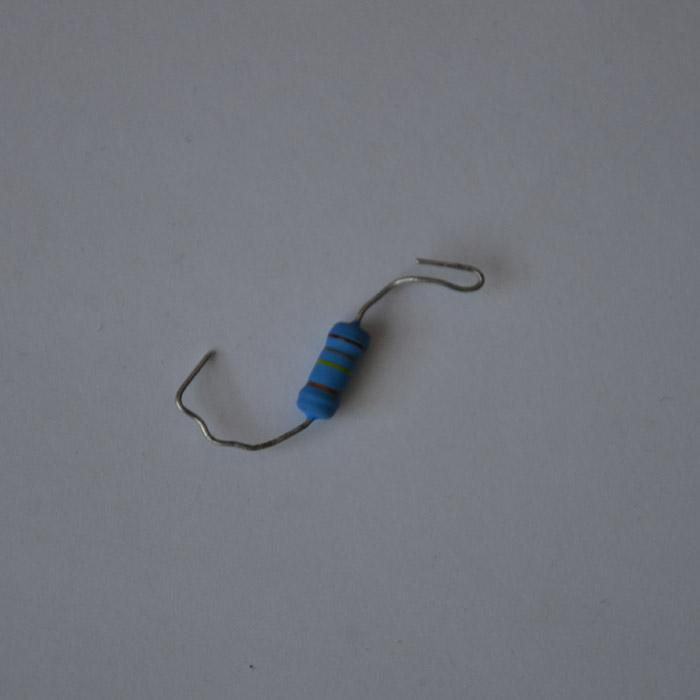resistor: (296, 319, 370, 422)
